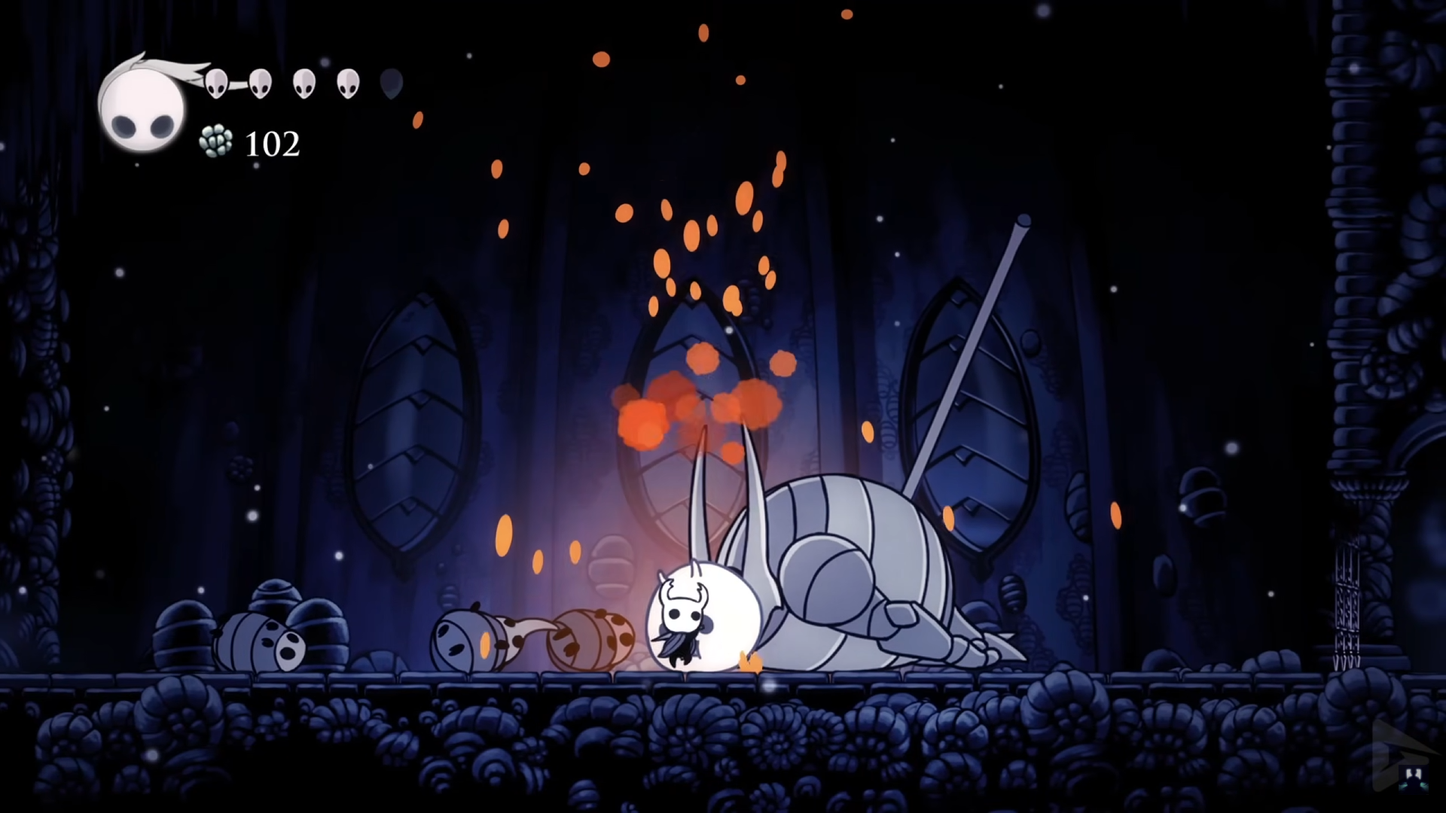HK: (646, 570, 710, 674)
